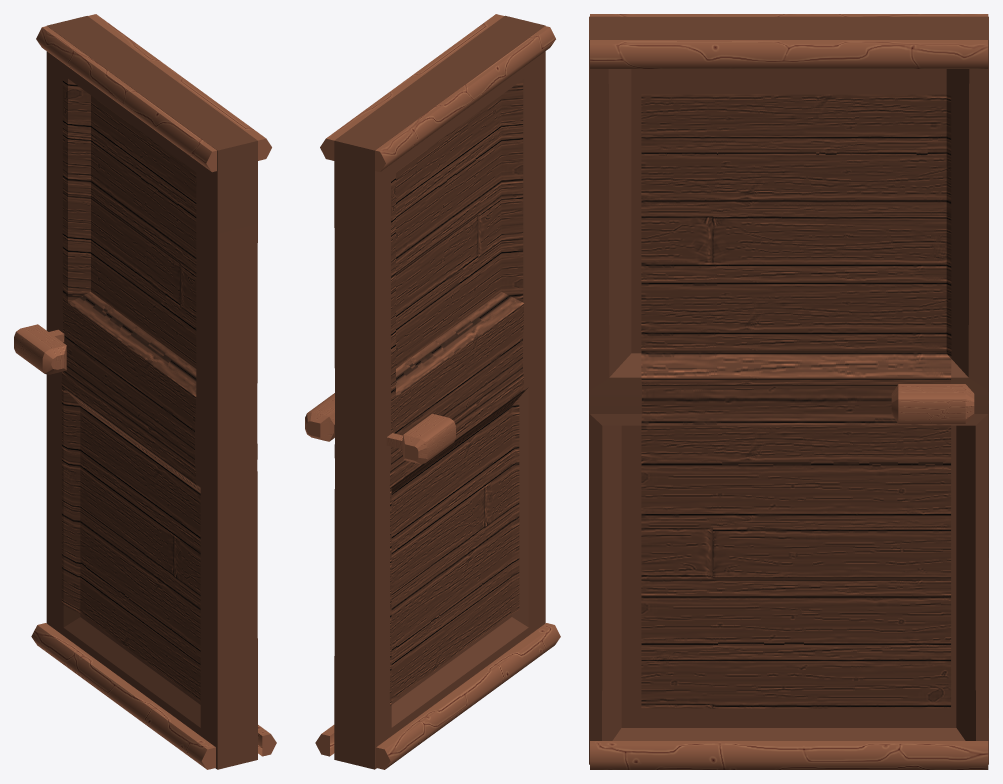
Rendered from door_mesh.fbx.
3 renders of one model, left to right at view 1: azimuth 30°, elevation 25°; view 2: azimuth 150°, elevation 25°; view 3: azimuth 270°, elevation 25°, orthographic. The views are drawn at different scales.
Parts seen in each view (by area): view 1: door_1; view 2: door_1; view 3: door_1.
Part boxes in pixels (<box>): door_1: <box>14,14,276,769</box>; door_1: <box>305,14,560,769</box>; door_1: <box>589,14,988,769</box>.
Size of the model in its own units: 41.32 by 200 by 100.
